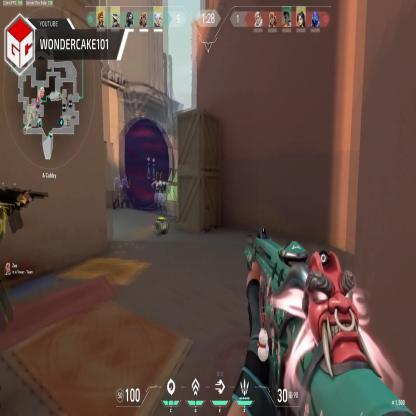enemy: (0, 138, 17, 350), (156, 170, 167, 220), (118, 170, 130, 209)
enemy_head: (160, 173, 164, 182), (123, 176, 127, 180)
